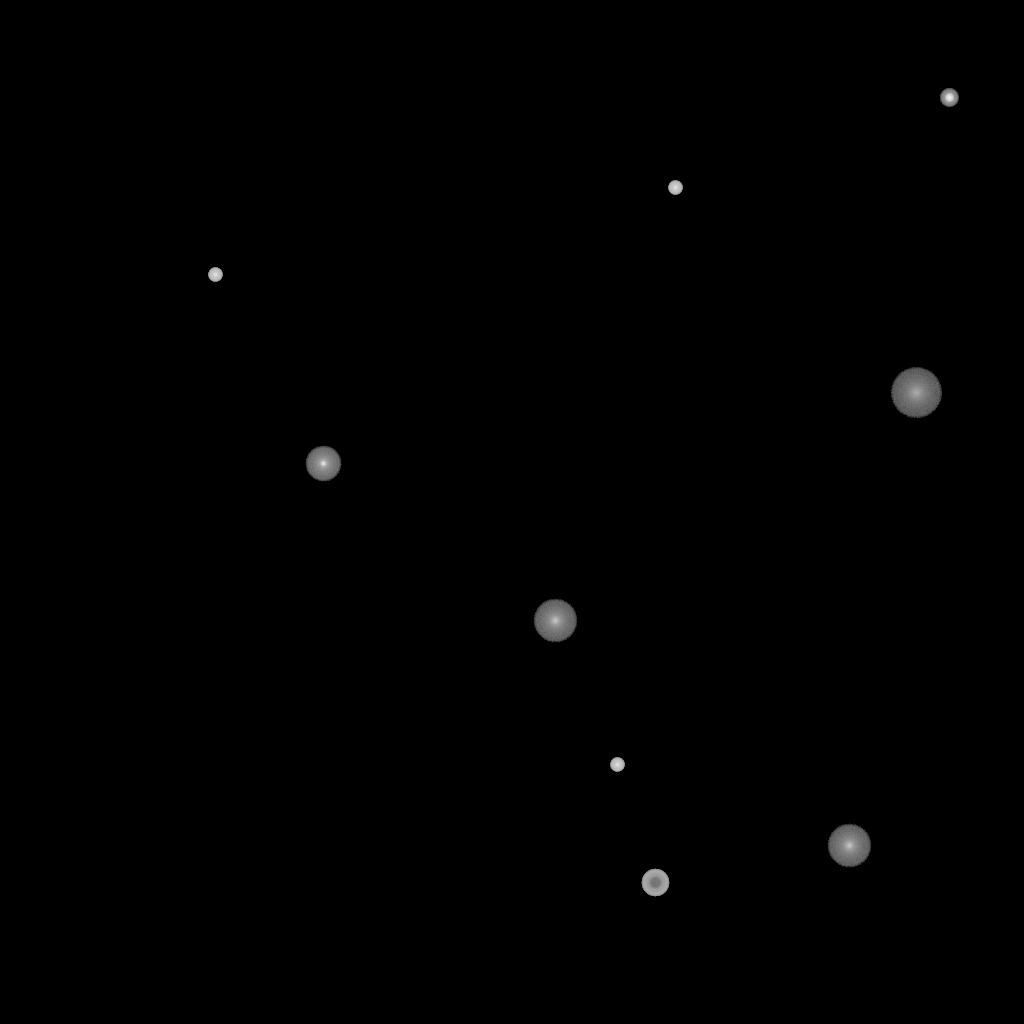depth:-20: (940, 89, 958, 107)
depth:-30: (610, 758, 624, 772), (668, 181, 682, 195), (208, 268, 222, 282)
depth:-50: (641, 869, 669, 897)
depth:0: (305, 446, 341, 482)
depth:10: (827, 824, 871, 868), (533, 599, 577, 643)
depth:20: (890, 368, 942, 418)
